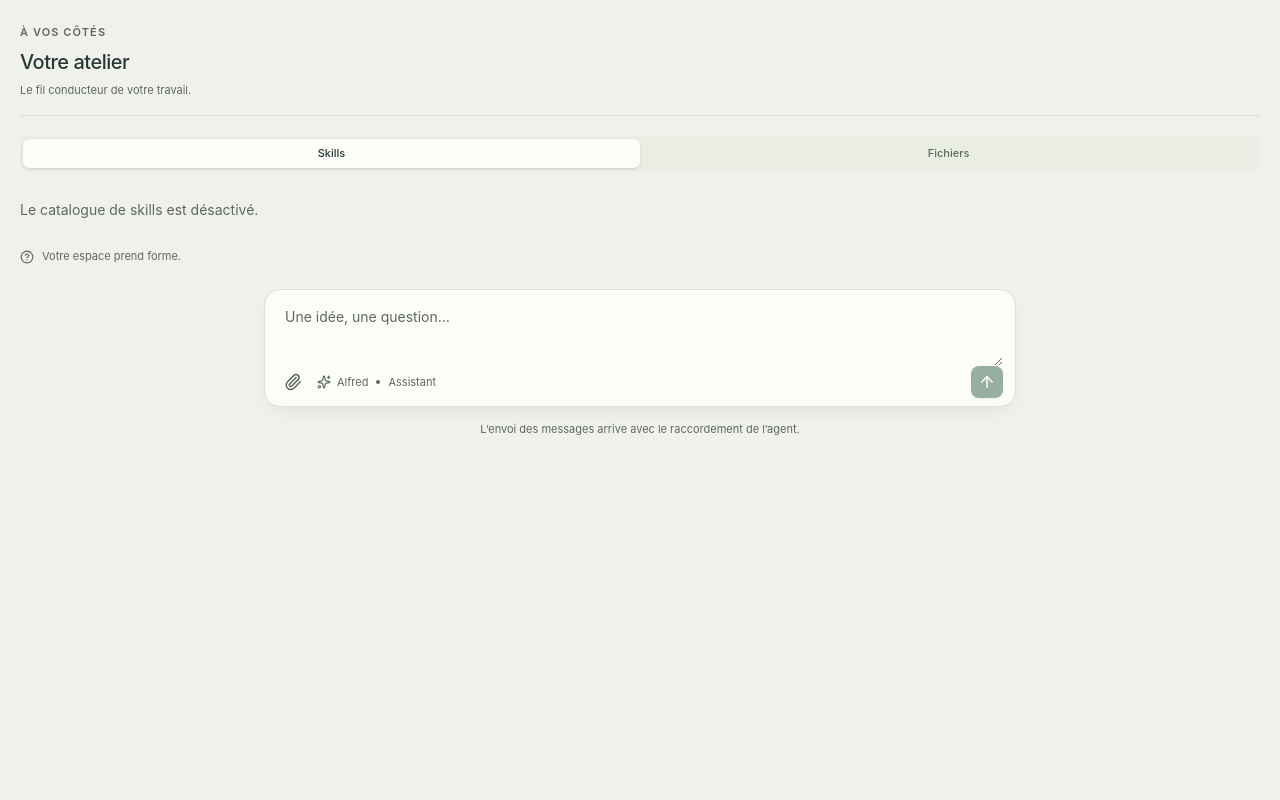
Test: Fichiers tab behind the fileUploads capability › deletes a file after a confirmation that says where it was sent
The width and height of the screenshot is (1280, 800).
Click the tab "Fichiers". click: {"x": 948, "y": 154}
box: [640,139,1257,168]
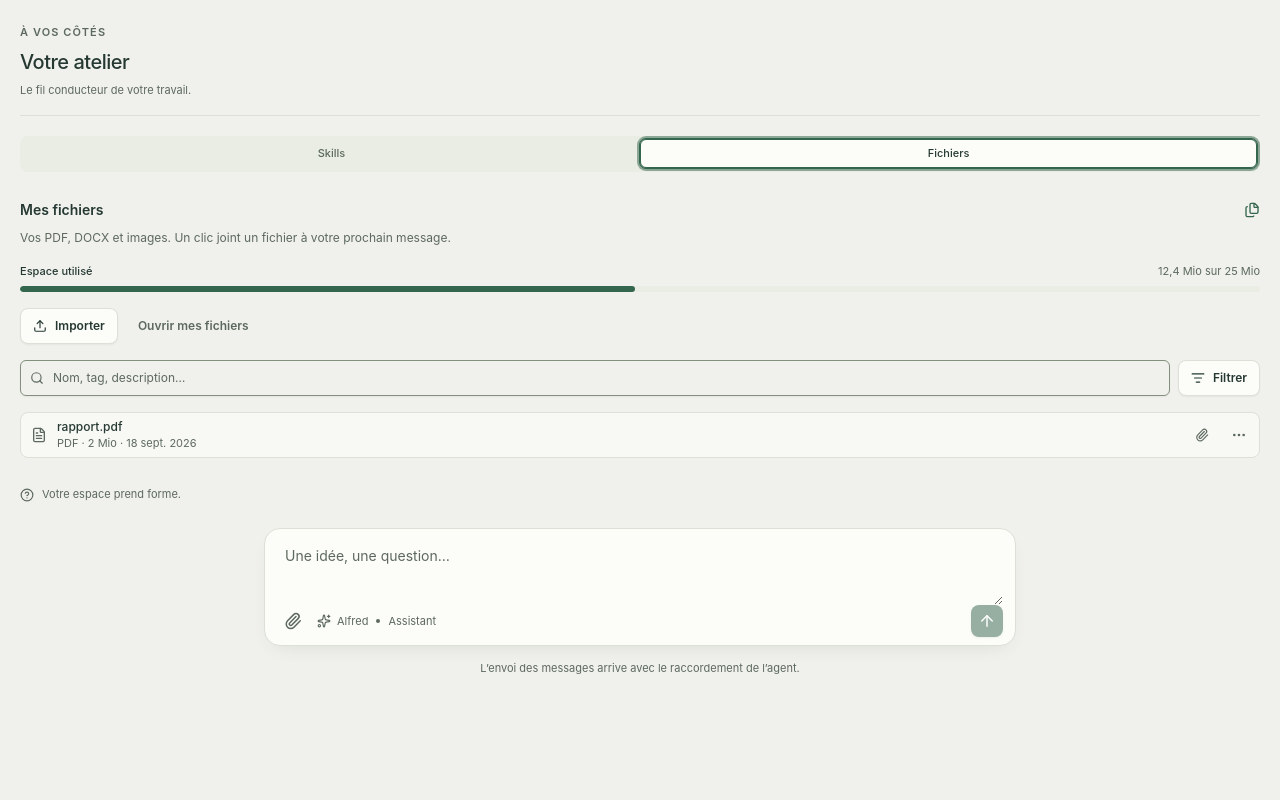
Click the button with aria-label "Joindre rapport.pdf au message". click: {"x": 90, "y": 426}
box: [21,412,1219,457]
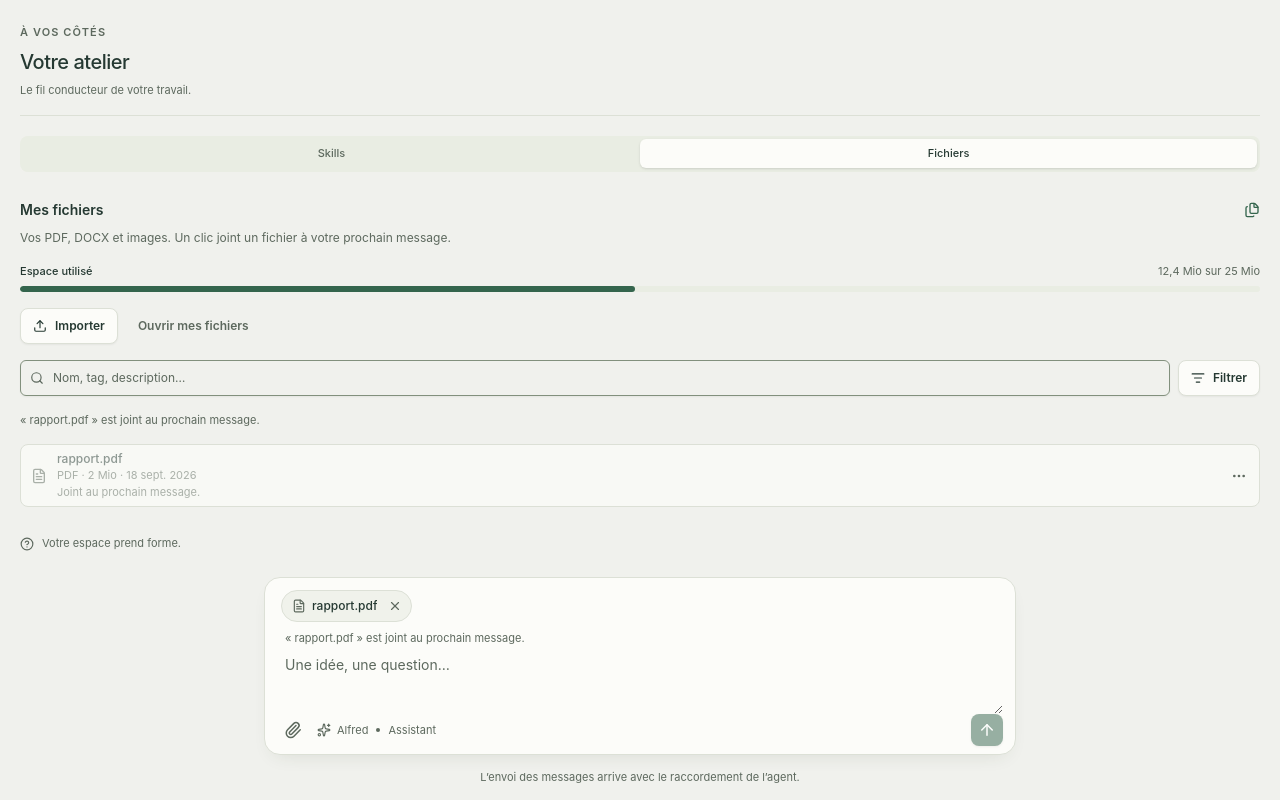
Result: the list named "Fichiers joints" is shown at [281,590,412,622]
Click the button named "Actions du fichier rapport.pdf". click: {"x": 1239, "y": 476}
box: [1223,460,1255,492]
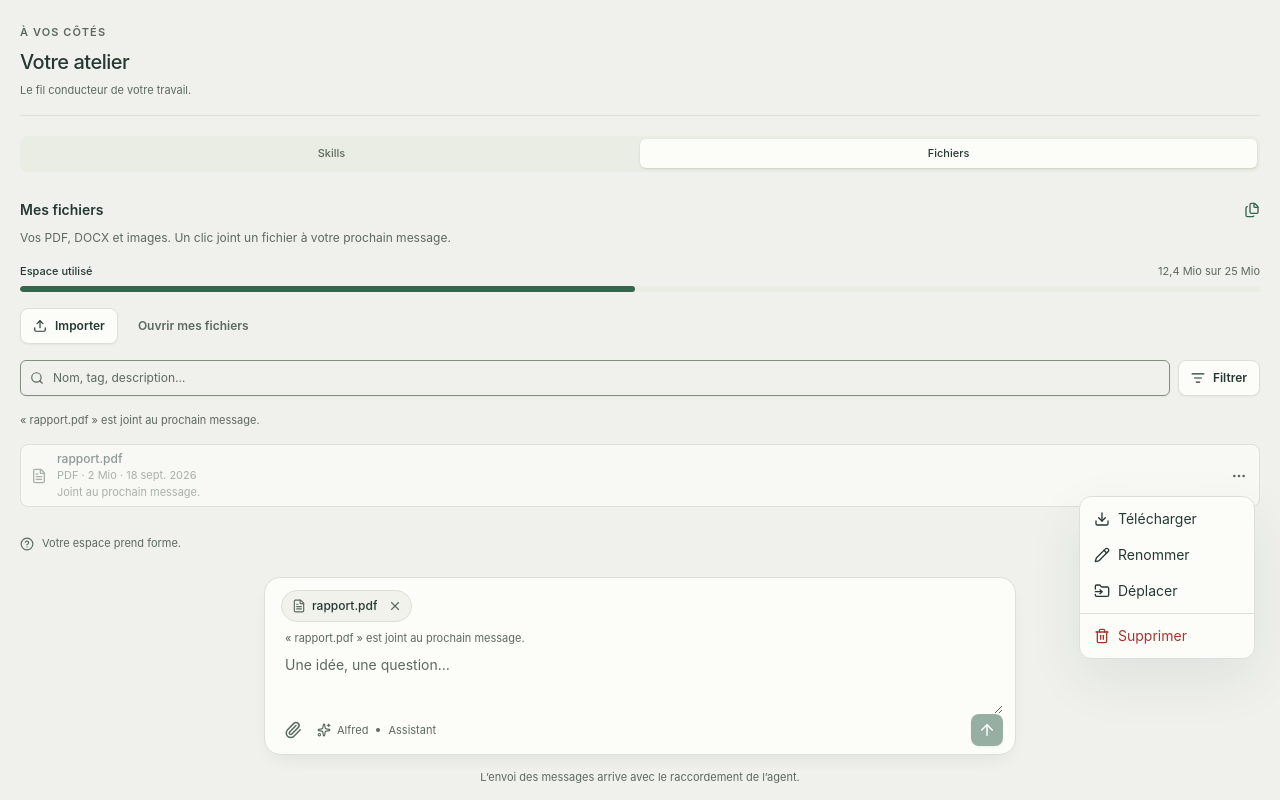
Click the menu item "Supprimer". click: {"x": 1140, "y": 636}
box: [1094,627,1187,644]
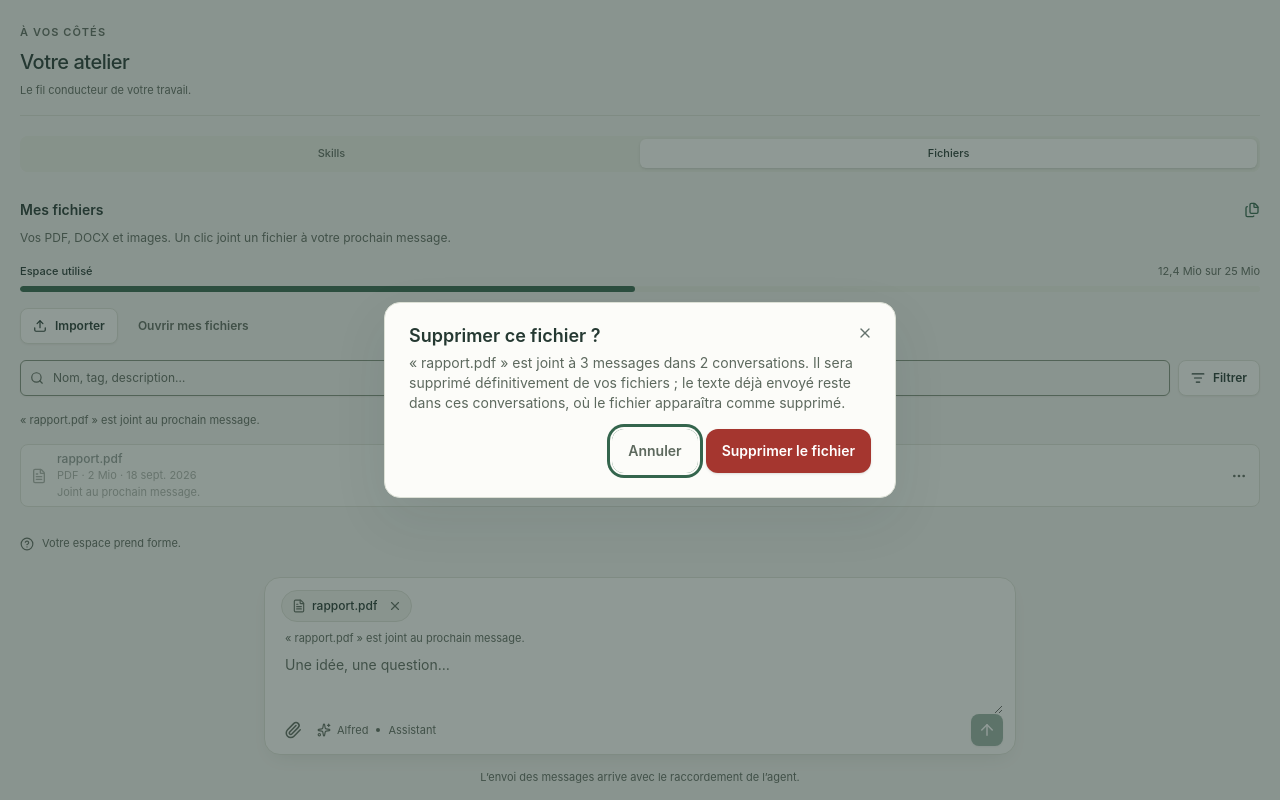
Click the button "Supprimer le fichier". click: {"x": 788, "y": 451}
box: [706,429,871,473]
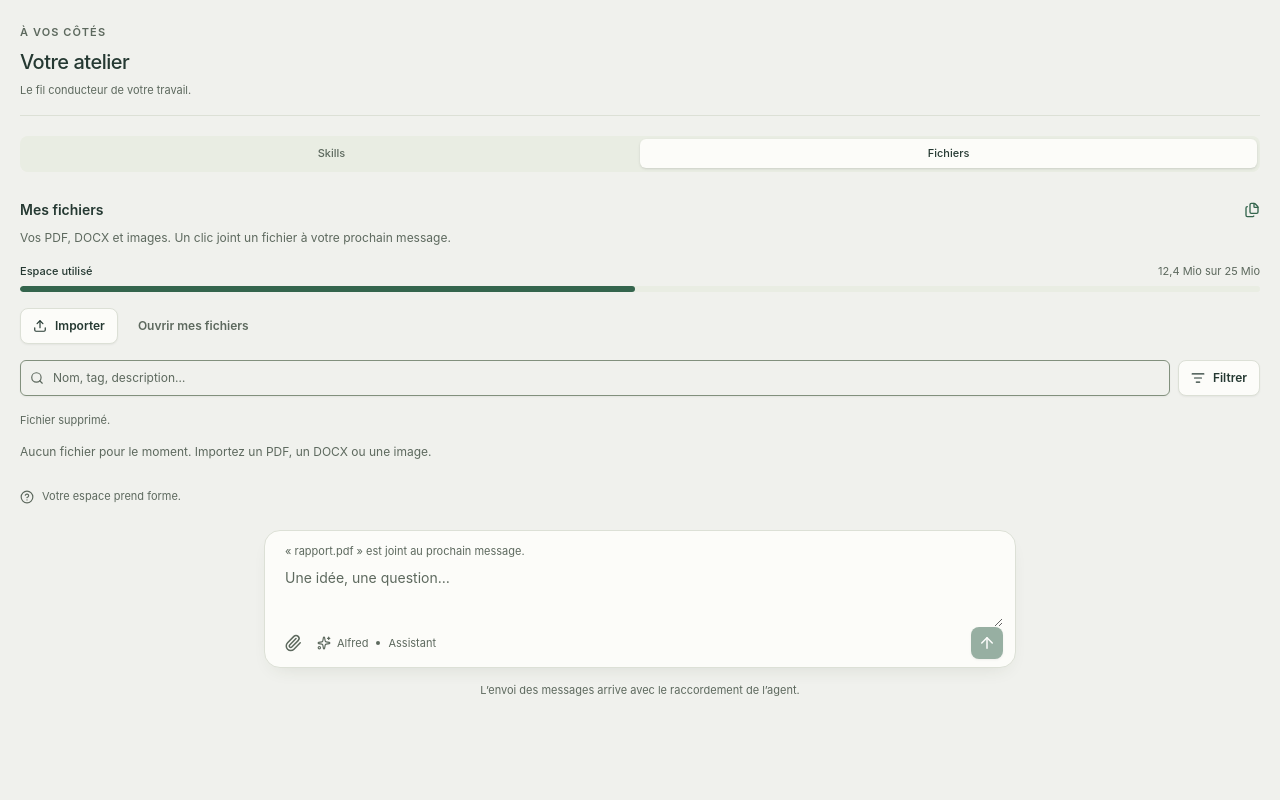
Result: the dialog is gone
Result: the text "Fichier supprimé." is shown at [20,412,110,426]
